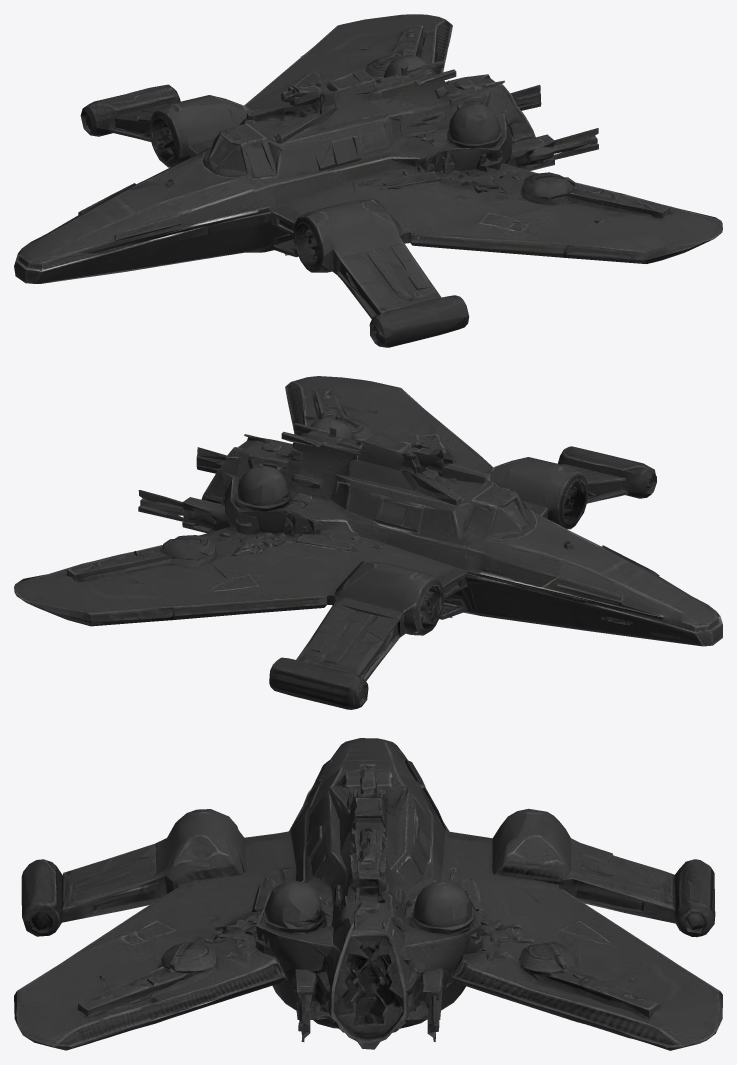
Rendered from enemy-auris-capital.glb.
3 renders of one model, top to bottom at view 1: azimuth 30°, elevation 25°; view 2: azimuth 150°, elevation 25°; view 3: azimuth 270°, elevation 25°, orthographic. The views are drawn at different scales.
Size of the model in its own units: 1.9 by 0.463 by 1.82.
Materials: 1 (1 with a texture image).
